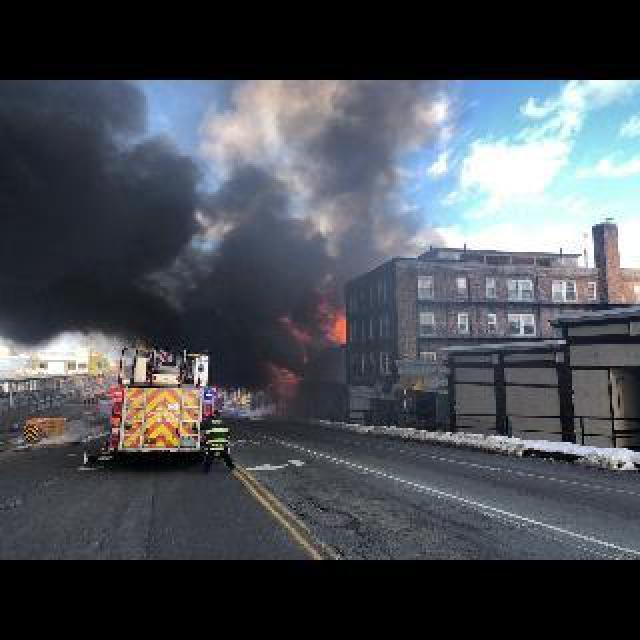Fire: (328, 292, 356, 352)
Smoke: (2, 80, 328, 352), (298, 80, 460, 292), (216, 354, 326, 420)
